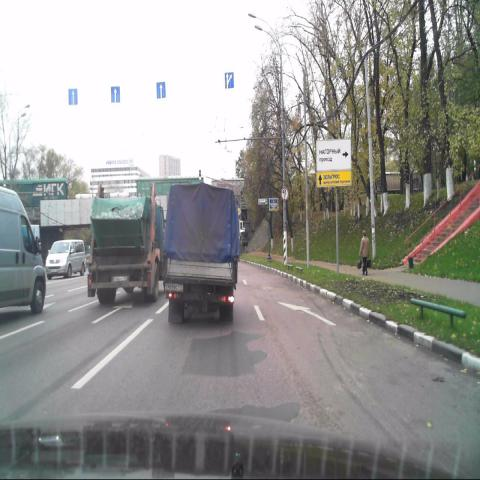3_13: (281, 187, 289, 201)
5_15_2: (68, 86, 78, 107), (156, 79, 166, 99), (224, 70, 234, 88), (111, 86, 120, 103)
